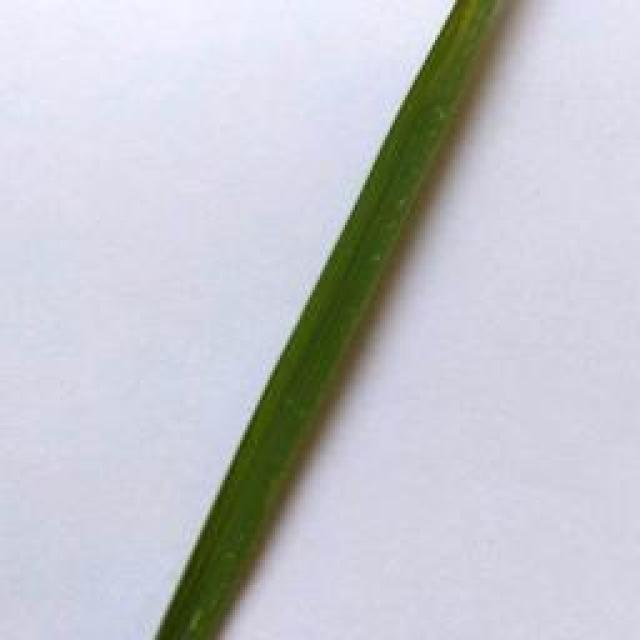Healthy-Plant: (171, 0, 504, 640)
